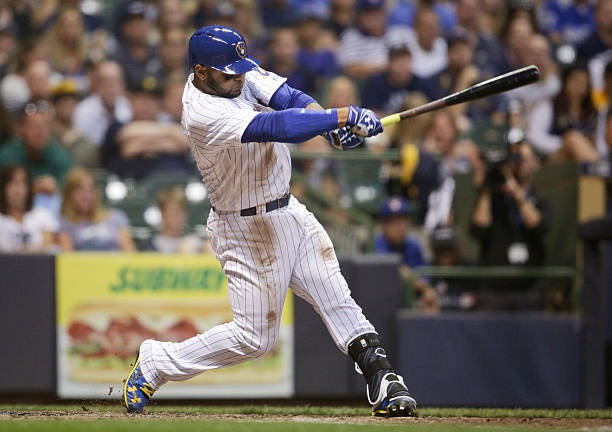bita: (340, 72, 535, 139)
